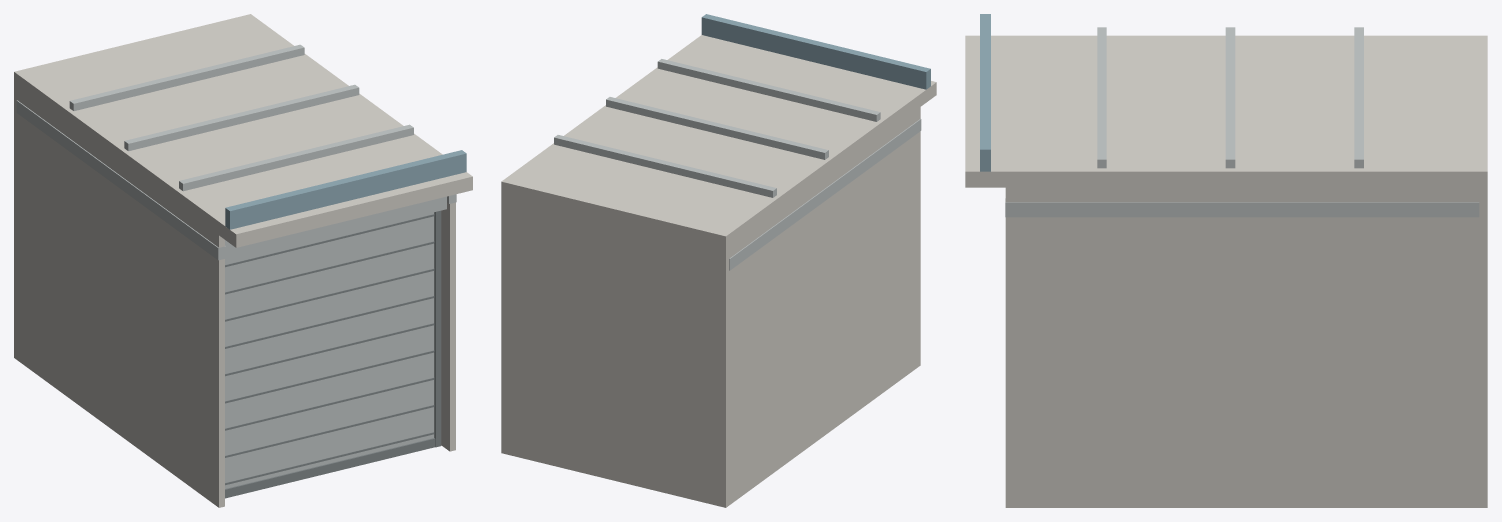
The model's file is fish-market-bay.glb.
3 renders of one model, left to right at view 1: azimuth 30°, elevation 25°; view 2: azimuth 150°, elevation 25°; view 3: azimuth 270°, elevation 25°, orthographic. The views are drawn at different scales.
Parts seen in each view (by area): view 1: fish-market-and-trawler-quay-market-hall-bay_0, shutter/steel, fish-market-and-trawler-quay-market-hall-bay_1, shutter/charcoal (×10), fish-market-and-trawler-quay-market-hall-bay_3, fish-market-and-trawler-quay-market-hall-bay_2; view 2: fish-market-and-trawler-quay-market-hall-bay_0, fish-market-and-trawler-quay-market-hall-bay_1, fish-market-and-trawler-quay-market-hall-bay_3; view 3: fish-market-and-trawler-quay-market-hall-bay_0, fish-market-and-trawler-quay-market-hall-bay_1, fish-market-and-trawler-quay-market-hall-bay_3.
Part boxes in pixels (box(x1,y1,x2,y2)): fish-market-and-trawler-quay-market-hall-bay_0: box(14, 14, 472, 507); shutter/steel: box(225, 212, 434, 488); fish-market-and-trawler-quay-market-hall-bay_1: box(16, 44, 456, 263); shutter/charcoal (×10): box(225, 214, 435, 498); fish-market-and-trawler-quay-market-hall-bay_3: box(225, 150, 466, 229); fish-market-and-trawler-quay-market-hall-bay_2: box(434, 210, 441, 447); fish-market-and-trawler-quay-market-hall-bay_0: box(501, 35, 936, 507); fish-market-and-trawler-quay-market-hall-bay_1: box(554, 59, 921, 270); fish-market-and-trawler-quay-market-hall-bay_3: box(701, 14, 930, 89); fish-market-and-trawler-quay-market-hall-bay_0: box(965, 35, 1487, 507); fish-market-and-trawler-quay-market-hall-bay_1: box(1005, 27, 1479, 217); fish-market-and-trawler-quay-market-hall-bay_3: box(980, 14, 990, 171).
Size of the model in its own units: 4.03 by 4.92 by 6.5.
